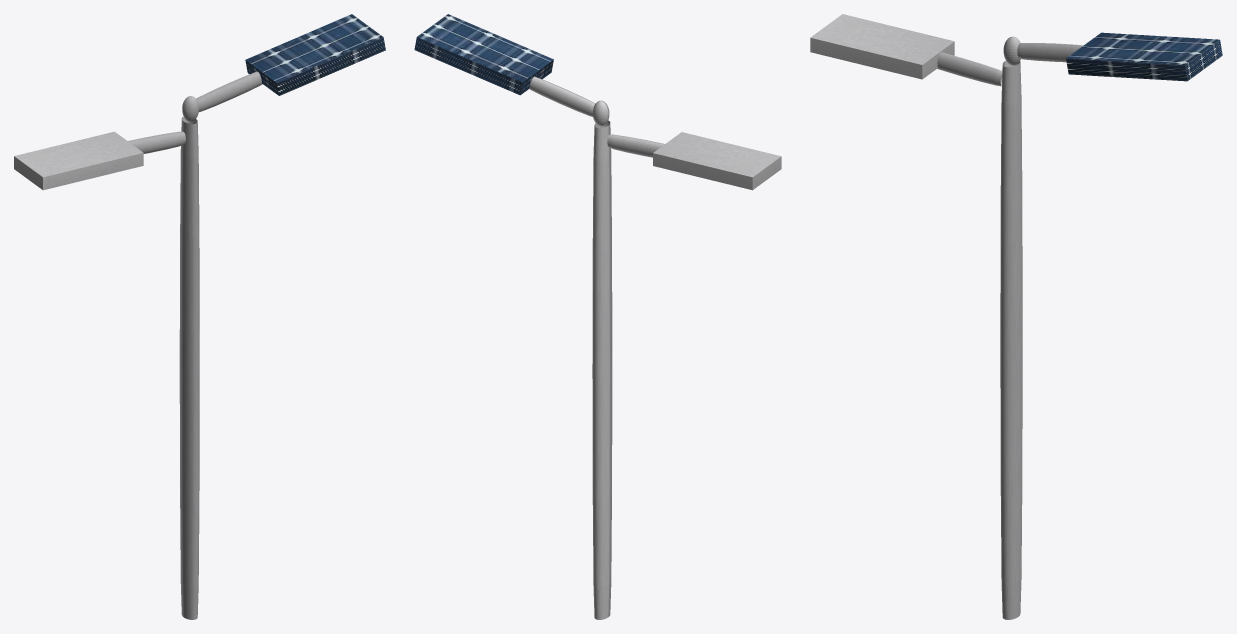
Rendered from lampara con luz.glb.
3 renders of one model, left to right at view 1: azimuth 30°, elevation 25°; view 2: azimuth 150°, elevation 25°; view 3: azimuth 330°, elevation 25°, orthographic. The views are drawn at different scales.
Visible parts, largest first — view 1: Toroide, Cubo.001, Cubo, Toroide.001, Toroide.002; view 2: Toroide, Cubo.001, Cubo, Toroide.001, Toroide.002; view 3: Toroide, Cubo.001, Cubo, Toroide.002, Toroide.001.
Boxes of the visible parts, x1,y1,x2,y2 form: Toroide: (179, 116, 199, 619); Cubo.001: (245, 14, 385, 95); Cubo: (14, 131, 143, 190); Toroide.001: (196, 71, 262, 111); Toroide.002: (128, 131, 185, 153); Toroide: (592, 120, 612, 619); Cubo.001: (414, 14, 553, 95); Cubo: (653, 132, 781, 190); Toroide.001: (529, 76, 595, 116); Toroide.002: (607, 134, 664, 157); Toroide: (1000, 60, 1022, 619); Cubo.001: (1066, 32, 1222, 81); Cubo: (810, 14, 954, 79); Toroide.002: (937, 52, 1002, 86); Toroide.001: (1017, 43, 1083, 62).
Size of the model in its own units: 8.29 by 12.79 by 1.33.
Materials: 6 (6 with a texture image).
